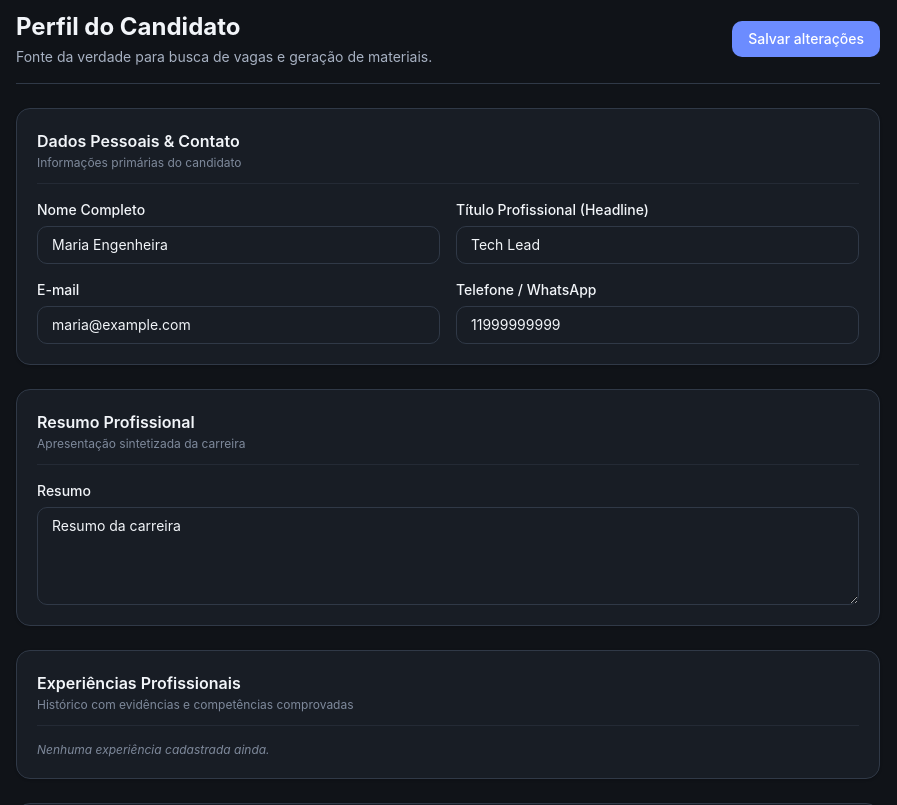
Test: ProfileSection Component › submits updated profile when saving
This screenshot has width=897, height=805.
Expected: the field showing "Maria Engenheira" is shown, [37,226,440,264]
Replace the text in the field showing "Tech Lead" with "Principal Engineer": (658, 245) [456,226,859,264]
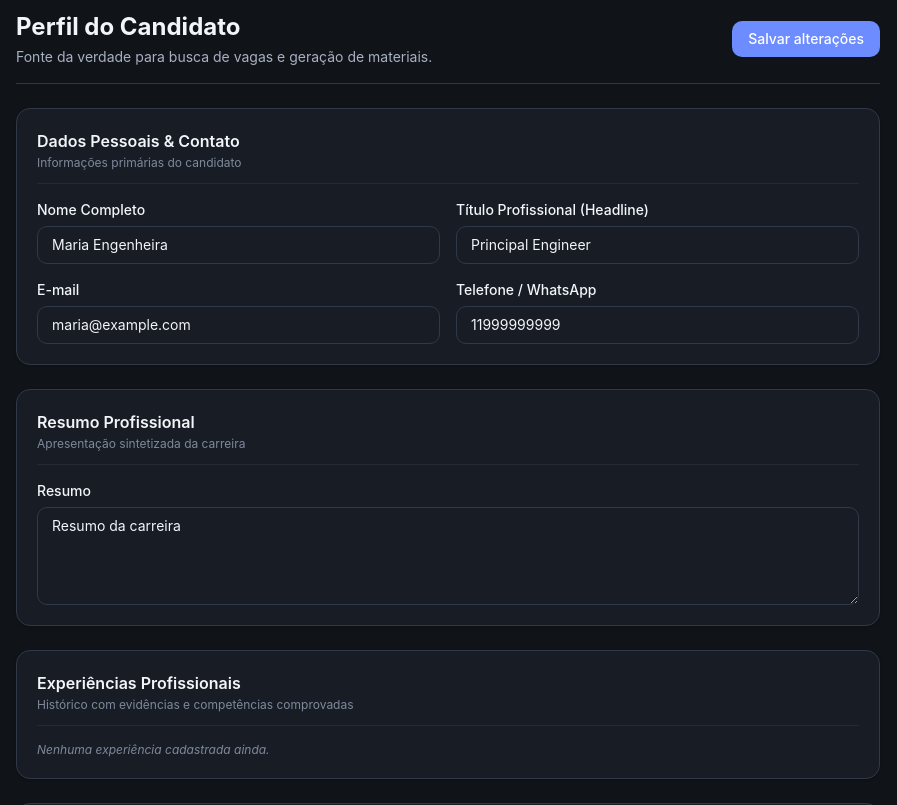
Click the button "Salvar alterações": (806, 39) [732,21,880,57]
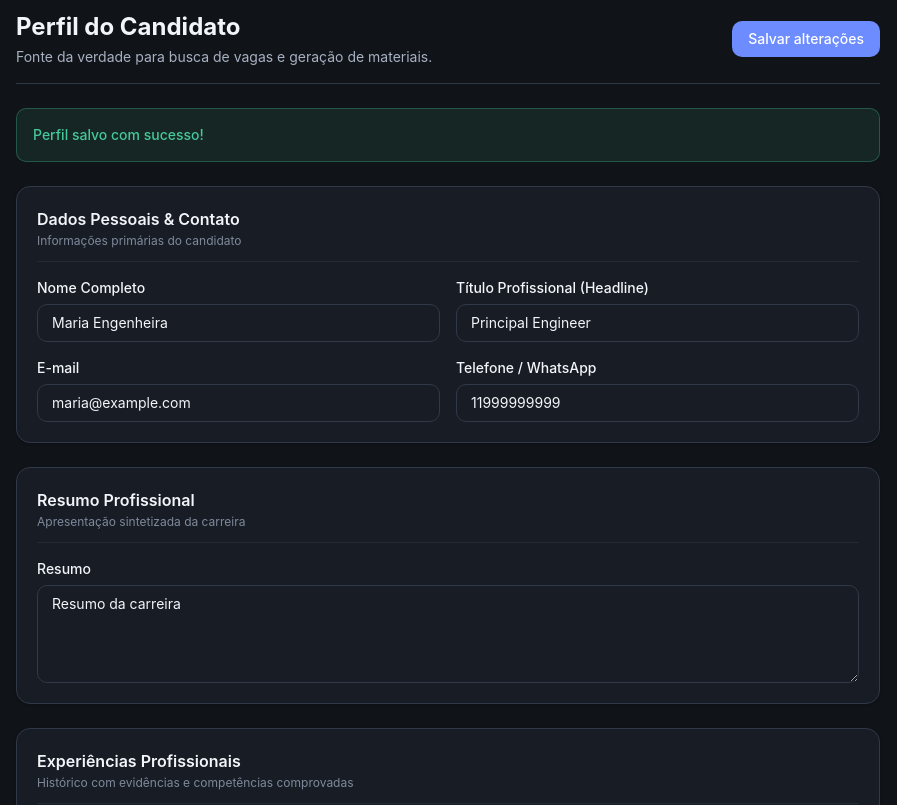
Expected: the text "Perfil salvo com sucesso!" is shown, [33,125,204,145]
